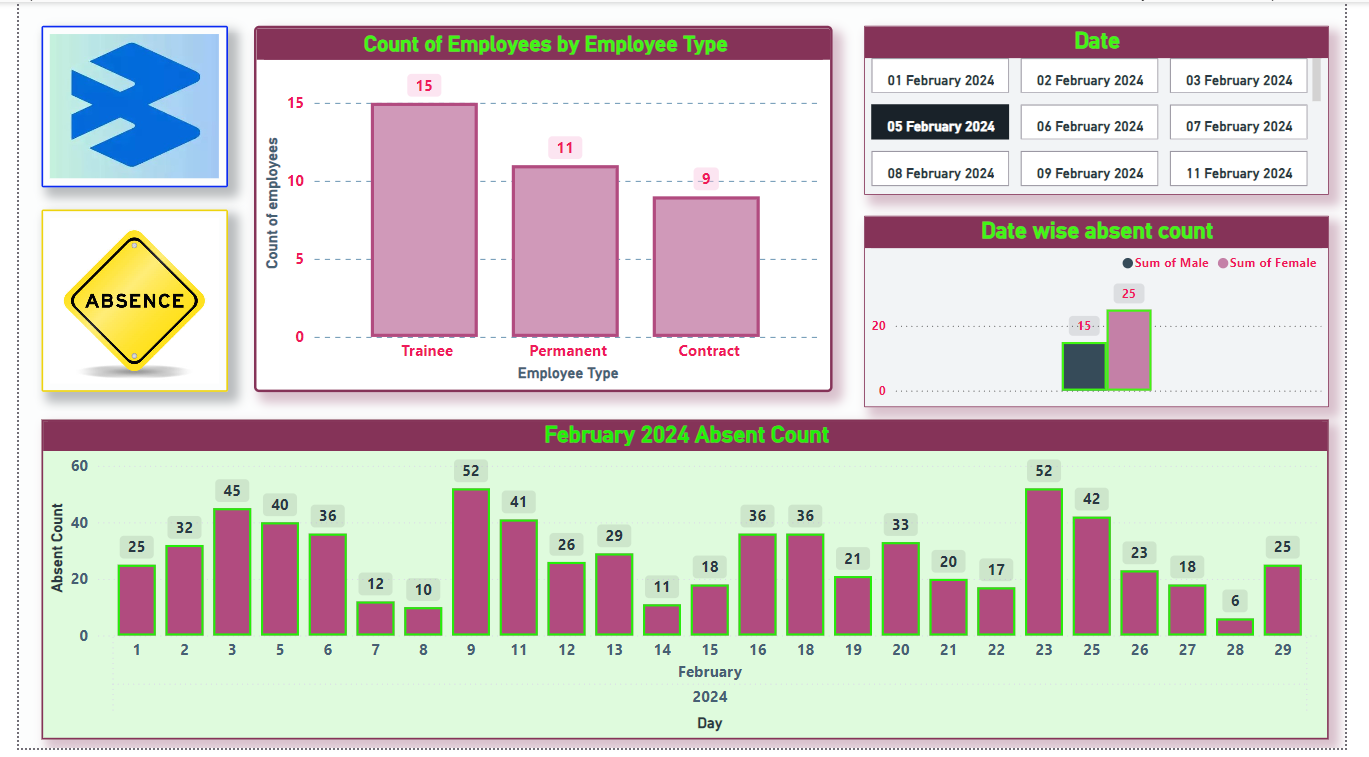

The page's visual inventory and layout, read from the dashboard file:
{"tool":"powerbi","page":{"name":"Overview","canvas":[1280,720],"ordinal":4},"visuals":[{"type":"image","box":[21.7,22.9,179.8,155.6],"z":0},{"type":"image","box":[21.7,200.3,179.8,176.1],"z":1000},{"type":"clusteredColumnChart","title":"Count of Employees by Employee Type","fields":{"Y":["CountNonNull(Sheet1.Gender)"],"Category":["Sheet1.Employee Type"]},"box":[226.8,22.9,558.6,353.5],"z":2000},{"type":"clusteredColumnChart","title":"February 2024 Absent Count","fields":{"Y":["Sum(Sheet2.Absent Count)"],"Category":["Sheet2.Date.Variation.Date Hierarchy.Year","Sheet2.Date.Variation.Date Hierarchy.Month","Sheet2.Date.Variation.Date Hierarchy.Day"]},"box":[21.7,403,1242.6,308.8],"z":3000},{"type":"advancedSlicerVisual","fields":{"Values":["Sheet3.Date"]},"box":[815.6,22.9,448.8,162.9],"z":4000},{"type":"clusteredColumnChart","title":"Date wise absent count","fields":{"Y":["Sum(Sheet3.Male )","Sum(Sheet3.Female)"]},"box":[815.6,206.3,448.8,184.6],"z":5000}]}

Visuals, with their boxes in screenshot pixels (x1, y1, x2, y2), scaled from the page's 1280x720 canvas onto the 1369x757 screenshot:
image: Rect(23, 24, 216, 188)
image: Rect(23, 211, 216, 396)
"Count of Employees by Employee Type" clusteredColumnChart: Rect(243, 24, 840, 396)
"February 2024 Absent Count" clusteredColumnChart: Rect(23, 424, 1352, 748)
advancedSlicerVisual - Sheet3.Date: Rect(872, 24, 1352, 195)
"Date wise absent count" clusteredColumnChart: Rect(872, 217, 1352, 411)
